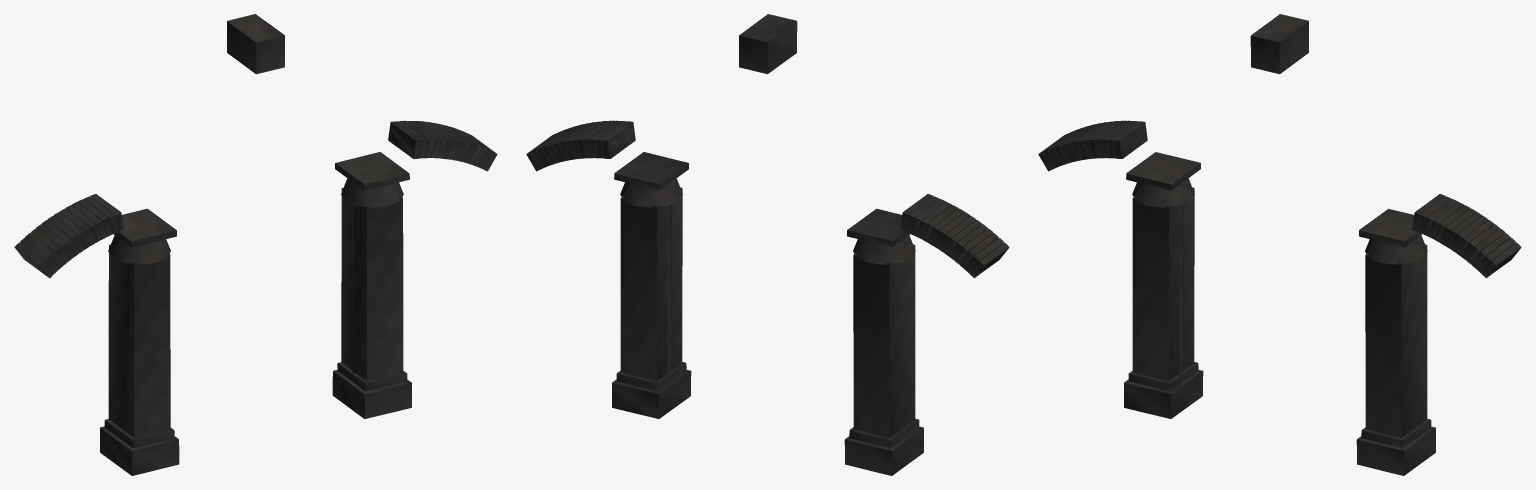
The model's file is GothicArch_Lancet_LOD2.glb.
3 views of the same model, side by side, from view 1: azimuth 30°, elevation 25°; view 2: azimuth 150°, elevation 25°; view 3: azimuth 330°, elevation 25° (orthographic).
Visible parts, largest first — view 1: GothicArch_Lancet_LOD2; view 2: GothicArch_Lancet_LOD2; view 3: GothicArch_Lancet_LOD2.
Boxes of the visible parts, x1=… form: GothicArch_Lancet_LOD2: x1=14, y1=14, x2=497, y2=475; GothicArch_Lancet_LOD2: x1=526, y1=14, x2=1009, y2=475; GothicArch_Lancet_LOD2: x1=1038, y1=14, x2=1521, y2=475.
Size of the model in its own units: 5.61 by 4.71 by 0.6826.
Materials: 1 (1 with a texture image).
